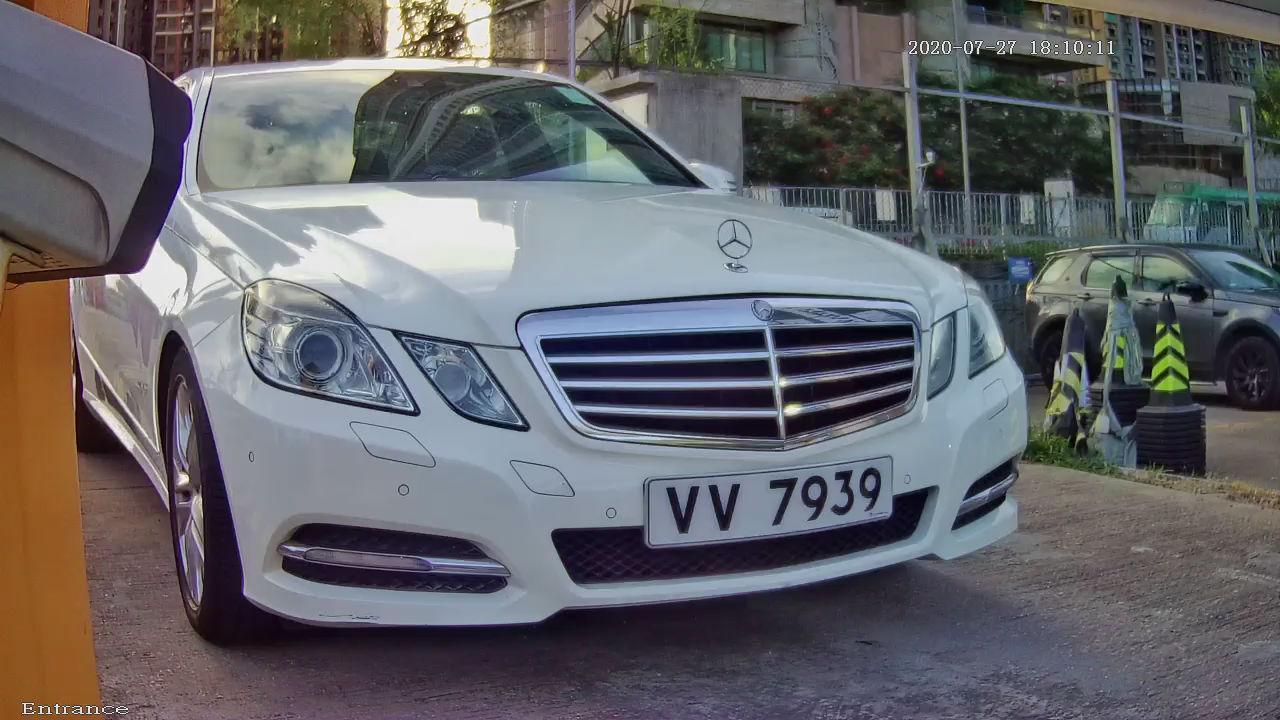privatecar: (63, 23, 1126, 663)
